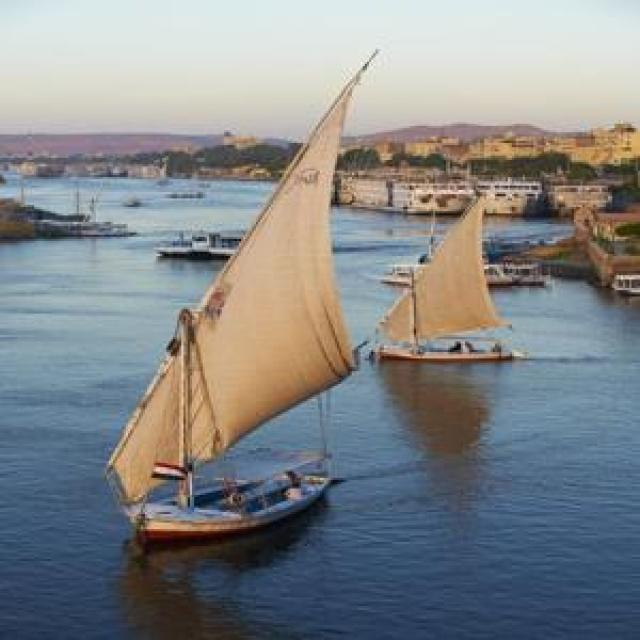houseboat: (148, 218, 244, 257)
sailboat: (94, 48, 363, 535), (368, 182, 527, 362)
